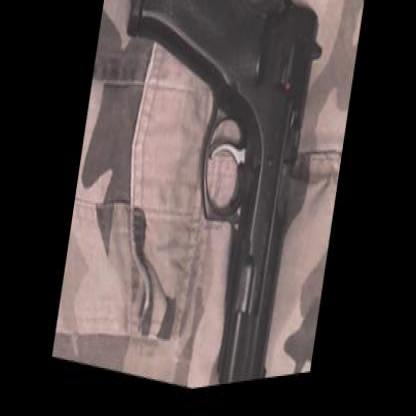pistol: (82, 0, 332, 402)
